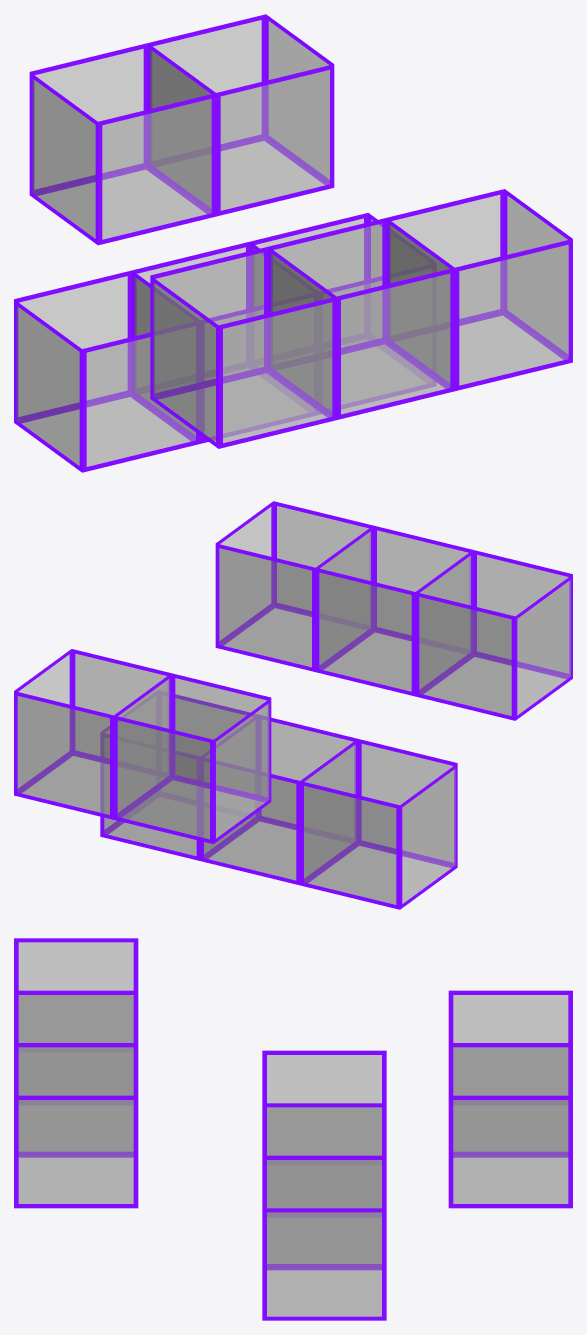
File: (1)M GWall.fbx
3 views of the same model, one above another, from view 1: azimuth 30°, elevation 25°; view 2: azimuth 150°, elevation 25°; view 3: azimuth 270°, elevation 25° (orthographic). The views are drawn at different scales.
Visible parts, largest first — view 1: Wall.010, Wall.001, Wall.002, Wall.011, Wall.005, Wall.006, Wall.007, Wall.008; view 2: Wall.006, Wall.010, Wall.001, Wall.002, Wall.011, Wall.005, Wall.007, Wall.008; view 3: Wall.008, Wall.011, Wall.005, Wall.010, Wall.002, Wall.007, Wall.006, Wall.001.
Part boxes in pixels (box(x1,y1,x2,y2)): Wall.010: box(29, 43, 215, 245); Wall.001: box(150, 246, 336, 448); Wall.002: box(268, 218, 454, 419); Wall.011: box(148, 14, 334, 216); Wall.005: box(386, 189, 572, 391); Wall.006: box(14, 270, 200, 472); Wall.007: box(132, 241, 317, 443); Wall.008: box(250, 212, 435, 414); Wall.006: box(300, 739, 457, 909); Wall.010: box(114, 673, 271, 844); Wall.001: box(415, 550, 572, 720); Wall.002: box(315, 525, 472, 696); Wall.011: box(14, 649, 171, 819); Wall.005: box(215, 501, 373, 671); Wall.007: box(200, 715, 357, 885); Wall.008: box(100, 694, 256, 860); Wall.008: box(262, 1155, 386, 1320); Wall.011: box(448, 1043, 572, 1208); Wall.005: box(14, 1043, 138, 1208); Wall.010: box(448, 990, 572, 1155); Wall.002: box(14, 990, 138, 1155); Wall.007: box(262, 1103, 386, 1263); Wall.006: box(262, 1050, 386, 1164); Wall.001: box(14, 938, 138, 1051).
Bounding box in the file's own units: 600 × 400 × 900.
